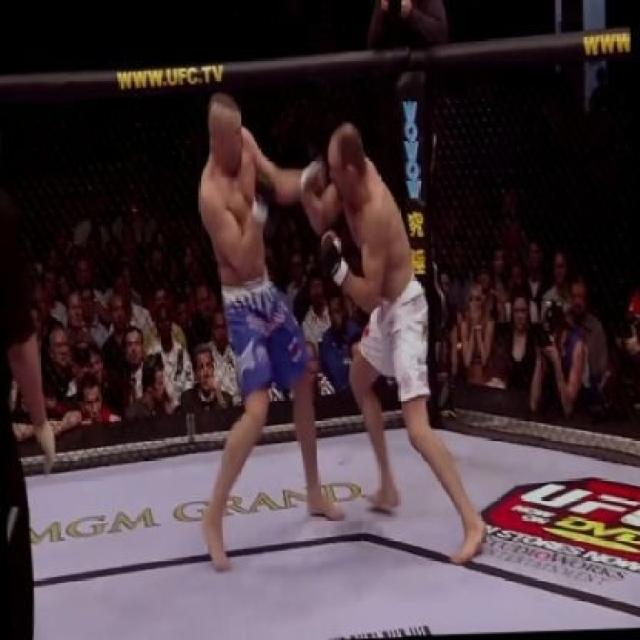fight: (166, 68, 482, 595)
